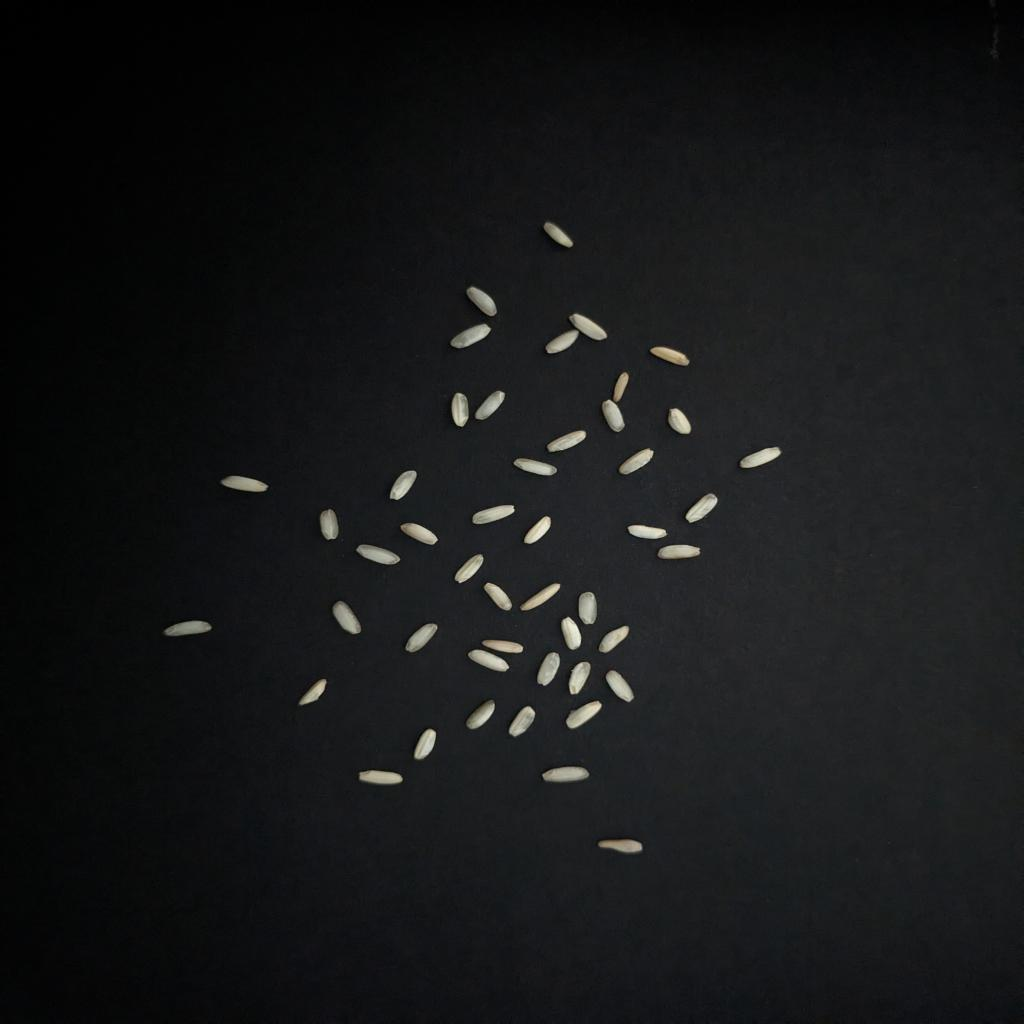chalky: (519, 584, 559, 610), (570, 314, 607, 340), (565, 702, 602, 728), (466, 286, 498, 316), (450, 324, 490, 348), (474, 390, 506, 420), (333, 602, 362, 634), (605, 670, 634, 702), (685, 494, 717, 522), (405, 624, 437, 652), (546, 430, 586, 452), (469, 650, 509, 672), (389, 470, 418, 500), (466, 700, 495, 730), (471, 504, 514, 524), (357, 544, 400, 564), (618, 450, 653, 474), (298, 678, 328, 706), (455, 554, 485, 582), (400, 522, 437, 544), (650, 346, 690, 366), (740, 448, 780, 468), (543, 222, 573, 248), (599, 626, 629, 652), (509, 706, 535, 736), (514, 458, 557, 476), (602, 400, 626, 432), (546, 330, 578, 354), (221, 476, 269, 492), (162, 620, 210, 636), (567, 662, 591, 694), (413, 728, 437, 760), (543, 766, 589, 782), (525, 516, 551, 544), (485, 582, 511, 610), (538, 652, 559, 686), (658, 544, 701, 560), (599, 838, 642, 854), (360, 770, 402, 786), (450, 392, 469, 426), (669, 408, 693, 434), (578, 592, 597, 624), (562, 618, 581, 650), (482, 640, 525, 654), (629, 524, 666, 540), (320, 510, 338, 540), (613, 372, 629, 402)
